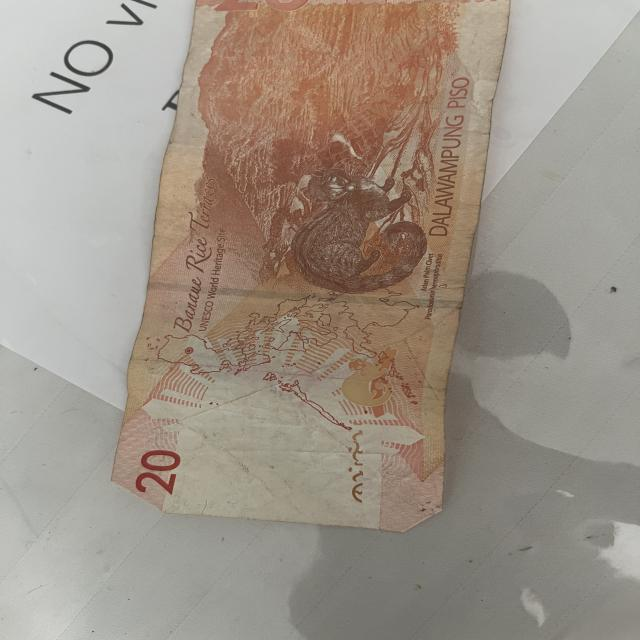20_civet: (285, 163, 434, 293)
20_civet_watermark: (334, 351, 398, 412)
